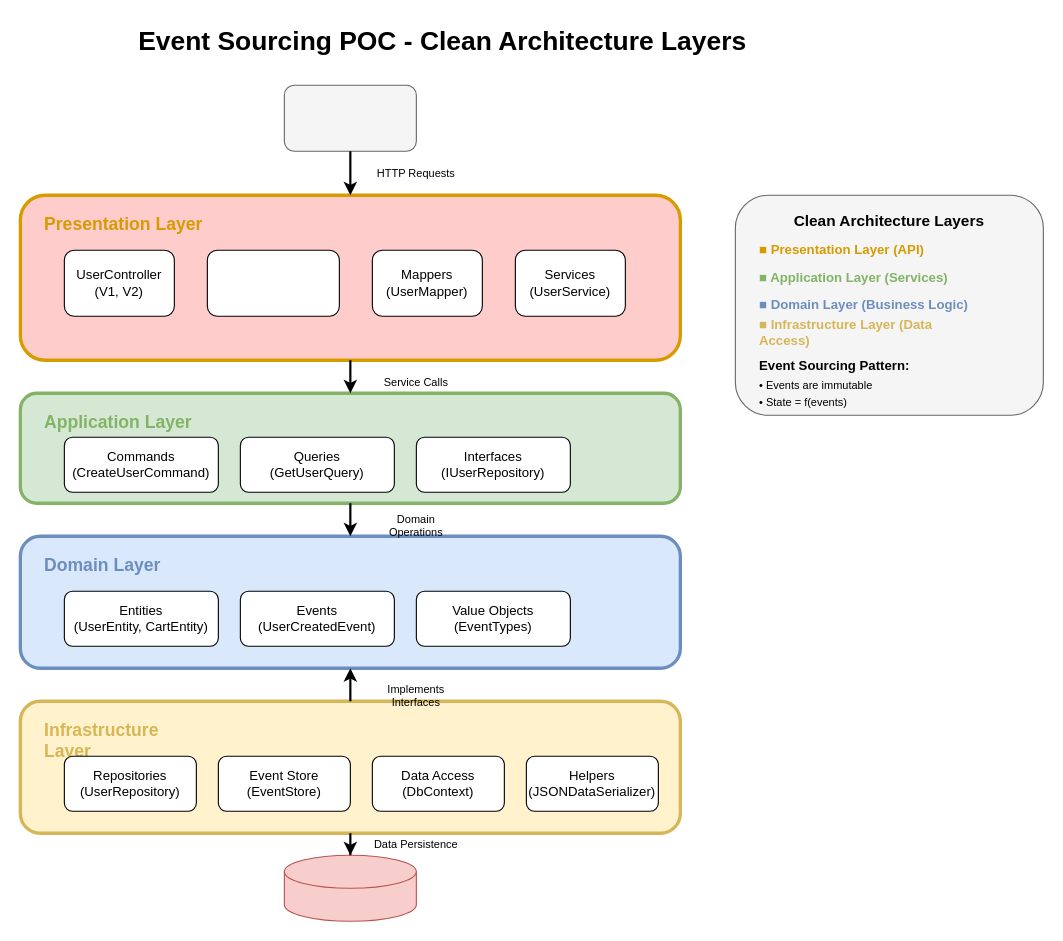
Some shapes in this 1063 by 941 pixel diagram are drawn without their labels. The box of each missing label's shape, as (x1, y1, x2, y2) in pixels:
DTOs (Request/Response): (206, 249, 339, 316)
External Client (HTTP Requests): (283, 84, 416, 151)
PostgreSQL Database: (283, 854, 416, 921)
